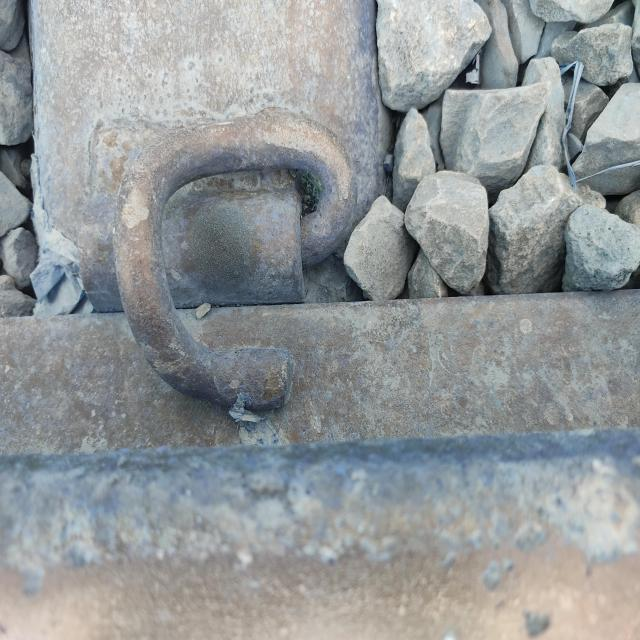Good Fasteners: (84, 107, 357, 420)
